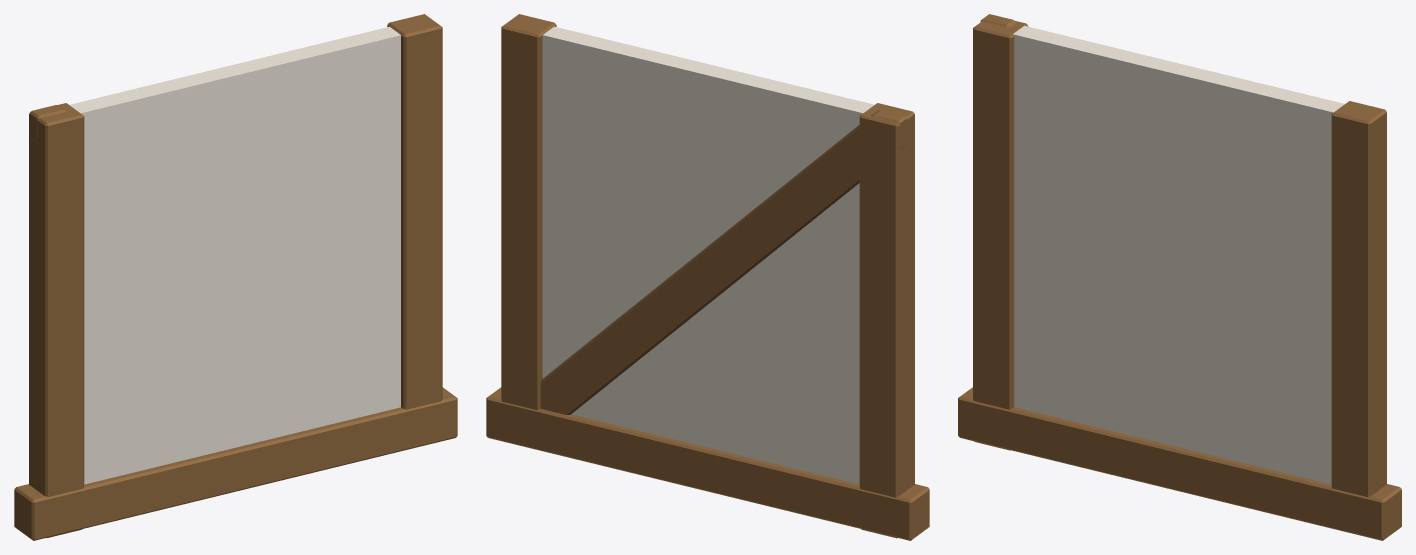
The model's file is WallDiagR.fbx.
The picture shows the model from 3 angles, left to right: view 1: azimuth 30°, elevation 25°; view 2: azimuth 150°, elevation 25°; view 3: azimuth 330°, elevation 25°; orthographic projection.
Parts seen in each view (by area): view 1: Cube.122, Cube.127, Cube.129, Cube.126; view 2: Cube.122, Cube.127, Cube.129, Cube.128, Cube.126; view 3: Cube.122, Cube.126, Cube.129, Cube.127.
Boxes of the visible parts, x1,y1,x2,y2 form: Cube.122: (69, 26, 400, 484); Cube.127: (29, 103, 84, 537); Cube.129: (14, 387, 457, 540); Cube.126: (387, 14, 442, 409); Cube.122: (542, 26, 874, 484); Cube.127: (859, 103, 914, 538); Cube.129: (486, 387, 929, 540); Cube.128: (540, 110, 907, 414); Cube.126: (501, 14, 556, 410); Cube.122: (1013, 25, 1344, 484); Cube.126: (1331, 101, 1386, 496); Cube.129: (958, 387, 1401, 540); Cube.127: (973, 21, 1028, 450).
Bounding box in the file's own units: 216 × 202 × 17.27.
